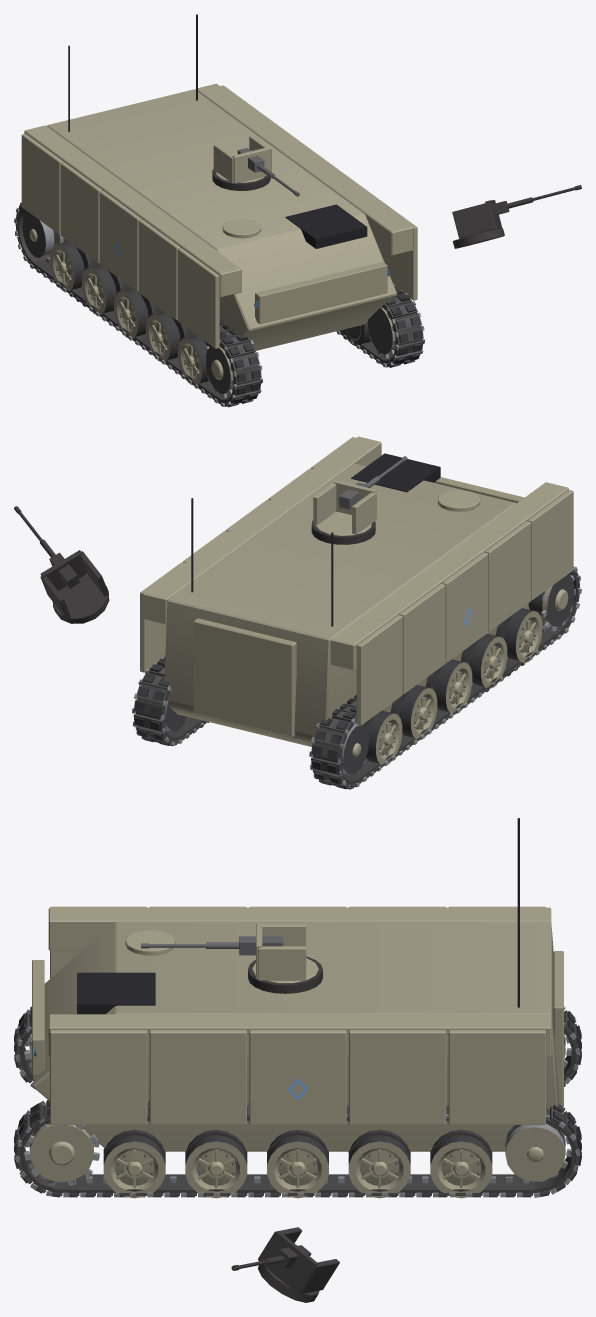
Rendered from apc__m113_fahd.glb.
3 renders of one model, top to bottom at view 1: azimuth 30°, elevation 25°; view 2: azimuth 150°, elevation 25°; view 3: azimuth 270°, elevation 25°, orthographic. The views are drawn at different scales.
Parts seen in each view (by area): view 1: Hull_Mesh, Wreck, Track_L_Mesh, Track_R_Mesh, Turret_Mesh, Wheel_L3_Mesh, Wheel_L1_Mesh, Wheel_L2_Mesh, Wheel_L0_Mesh, Wheel_L4_Mesh, Idler_L_Mesh, Sprocket_L_Mesh (+1 smaller); view 2: Hull_Mesh, Wreck, Track_L_Mesh, Track_R_Mesh, Turret_Mesh, Wheel_L2_Mesh, Wheel_L4_Mesh, Wheel_L1_Mesh, Wheel_L3_Mesh, Wheel_L0_Mesh, Sprocket_L_Mesh, Idler_L_Mesh (+1 smaller); view 3: Hull_Mesh, Track_R_Mesh, Wreck, Sprocket_R_Mesh, Wheel_R4_Mesh, Wheel_R3_Mesh, Wheel_R0_Mesh, Wheel_R1_Mesh, Wheel_R2_Mesh, Turret_Mesh, Idler_R_Mesh, Track_L_Mesh (+1 smaller).
Part boxes in pixels (bbox=[...]): Hull_Mesh: bbox=[21, 14, 417, 350]; Wreck: bbox=[15, 169, 581, 406]; Track_L_Mesh: bbox=[14, 203, 263, 407]; Track_R_Mesh: bbox=[336, 284, 424, 367]; Turret_Mesh: bbox=[213, 135, 271, 183]; Wheel_L3_Mesh: bbox=[146, 312, 188, 361]; Wheel_L1_Mesh: bbox=[82, 265, 124, 314]; Wheel_L2_Mesh: bbox=[114, 288, 156, 338]; Wheel_L0_Mesh: bbox=[50, 242, 92, 291]; Wheel_L4_Mesh: bbox=[178, 335, 210, 385]; Idler_L_Mesh: bbox=[22, 212, 63, 258]; Sprocket_L_Mesh: bbox=[204, 346, 233, 398]; Hull_Mesh: bbox=[140, 436, 573, 746]; Wreck: bbox=[14, 506, 579, 789]; Track_L_Mesh: bbox=[309, 566, 581, 788]; Track_R_Mesh: bbox=[132, 657, 207, 745]; Turret_Mesh: bbox=[313, 480, 376, 535]; Wheel_L2_Mesh: bbox=[425, 659, 472, 714]; Wheel_L4_Mesh: bbox=[495, 608, 542, 662]; Wheel_L1_Mesh: bbox=[390, 685, 437, 740]; Wheel_L3_Mesh: bbox=[460, 634, 507, 688]; Wheel_L0_Mesh: bbox=[362, 710, 402, 765]; Sprocket_L_Mesh: bbox=[523, 574, 575, 631]; Idler_L_Mesh: bbox=[341, 723, 368, 775]; Hull_Mesh: bbox=[32, 818, 563, 1151]; Track_R_Mesh: bbox=[14, 1100, 581, 1197]; Wreck: bbox=[14, 956, 581, 1302]; Sprocket_R_Mesh: bbox=[24, 1123, 99, 1186]; Wheel_R4_Mesh: bbox=[103, 1129, 165, 1198]; Wheel_R3_Mesh: bbox=[185, 1129, 247, 1198]; Wheel_R0_Mesh: bbox=[430, 1129, 492, 1198]; Wheel_R1_Mesh: bbox=[348, 1129, 410, 1198]; Wheel_R2_Mesh: bbox=[267, 1129, 328, 1198]; Turret_Mesh: bbox=[252, 923, 318, 983]; Idler_R_Mesh: bbox=[505, 1123, 565, 1181]; Track_L_Mesh: bbox=[14, 1006, 581, 1089].
Size of what is drawn, in the model's own units: 6.18 by 2.97 by 5.42.
